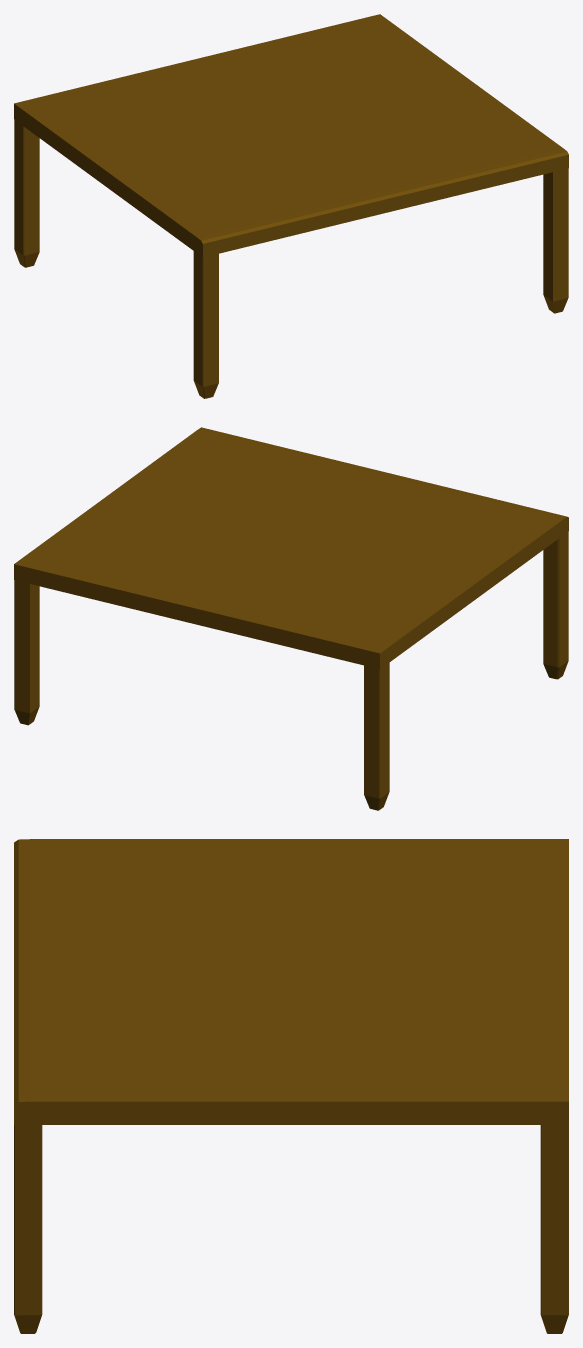
Rendered from Table.obj.
The picture shows the model from 3 angles, top to bottom: view 1: azimuth 30°, elevation 25°; view 2: azimuth 150°, elevation 25°; view 3: azimuth 270°, elevation 25°; orthographic projection. The views are drawn at different scales.
Visible parts, largest first — view 1: Cube.095_Cube.144; view 2: Cube.095_Cube.144; view 3: Cube.095_Cube.144.
Boxes of the visible parts, left/top/right/bottom form: Cube.095_Cube.144: left=14, top=14, right=568, bottom=398; Cube.095_Cube.144: left=14, top=427, right=568, bottom=810; Cube.095_Cube.144: left=14, top=839, right=568, bottom=1333.
Size of the model in its own units: 12.15 by 5.07 by 10.86.
